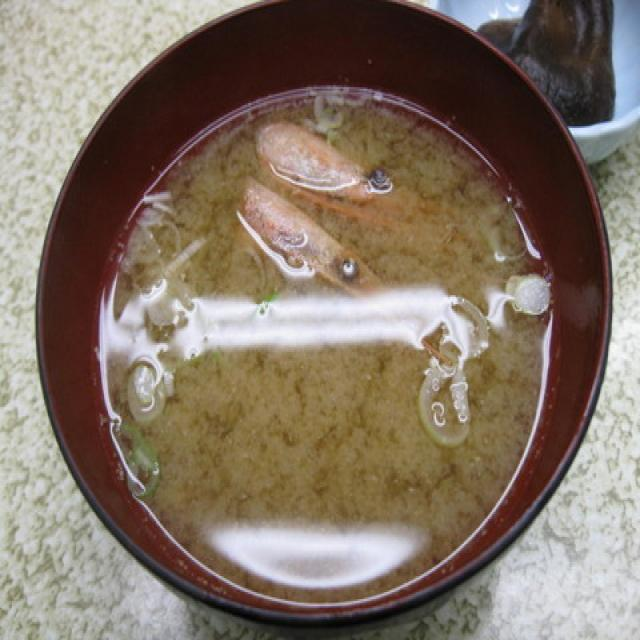汤锅炖物: (12, 16, 560, 615)
